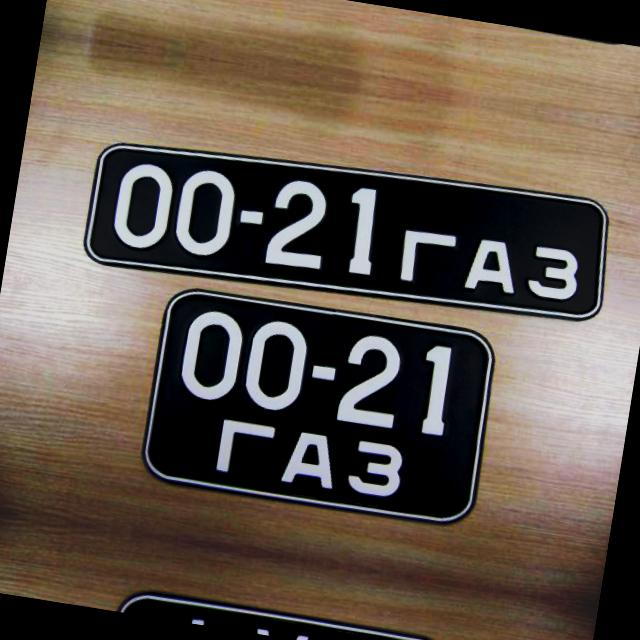military: (77, 120, 617, 342), (138, 283, 500, 533)
